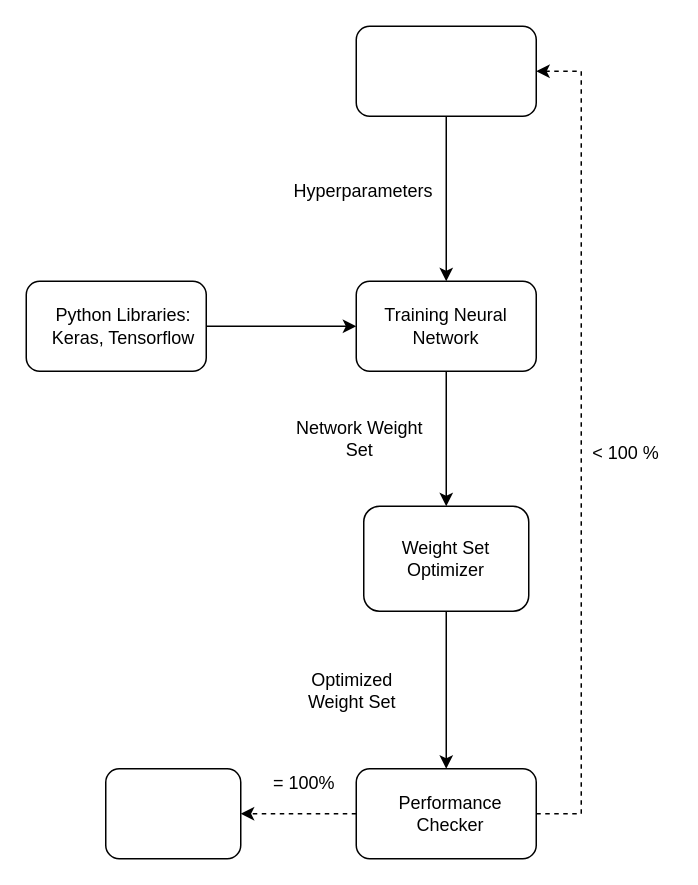
This 698x885 diagram has some shape labels left out. Here are the shapes that lost their labels. From the top down, the centre of each, then its label:
At pixel 445 70: "Hyperparameter Tuner".
At pixel 172 813: "Save to Weight Set Library".
